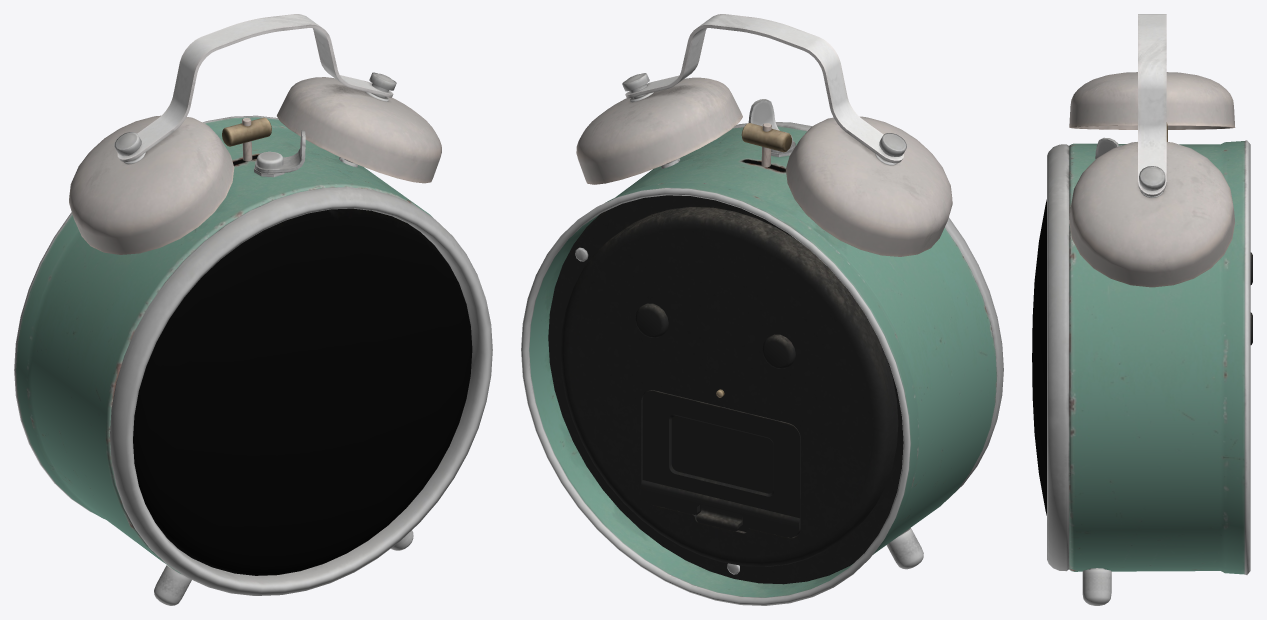
Rendered from alarm_clock_01_1k.gltf.
3 views of the same model, side by side, from view 1: azimuth 30°, elevation 25°; view 2: azimuth 150°, elevation 25°; view 3: azimuth 270°, elevation 25° (orthographic). The views are drawn at different scales.
Parts seen in each view (by area): view 1: alarm_clock_01; view 2: alarm_clock_01; view 3: alarm_clock_01.
Part boxes in pixels (x1,y1,x2,y2): alarm_clock_01: [14, 14, 492, 605]; alarm_clock_01: [521, 14, 1003, 605]; alarm_clock_01: [1032, 14, 1252, 605].
Size of the model in its own units: 0.1317 by 0.1742 by 0.0667.
Materials: 2 (2 with a texture image).
